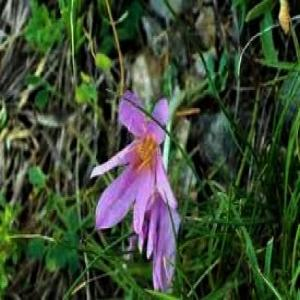Saffron: (96, 97, 178, 230)
